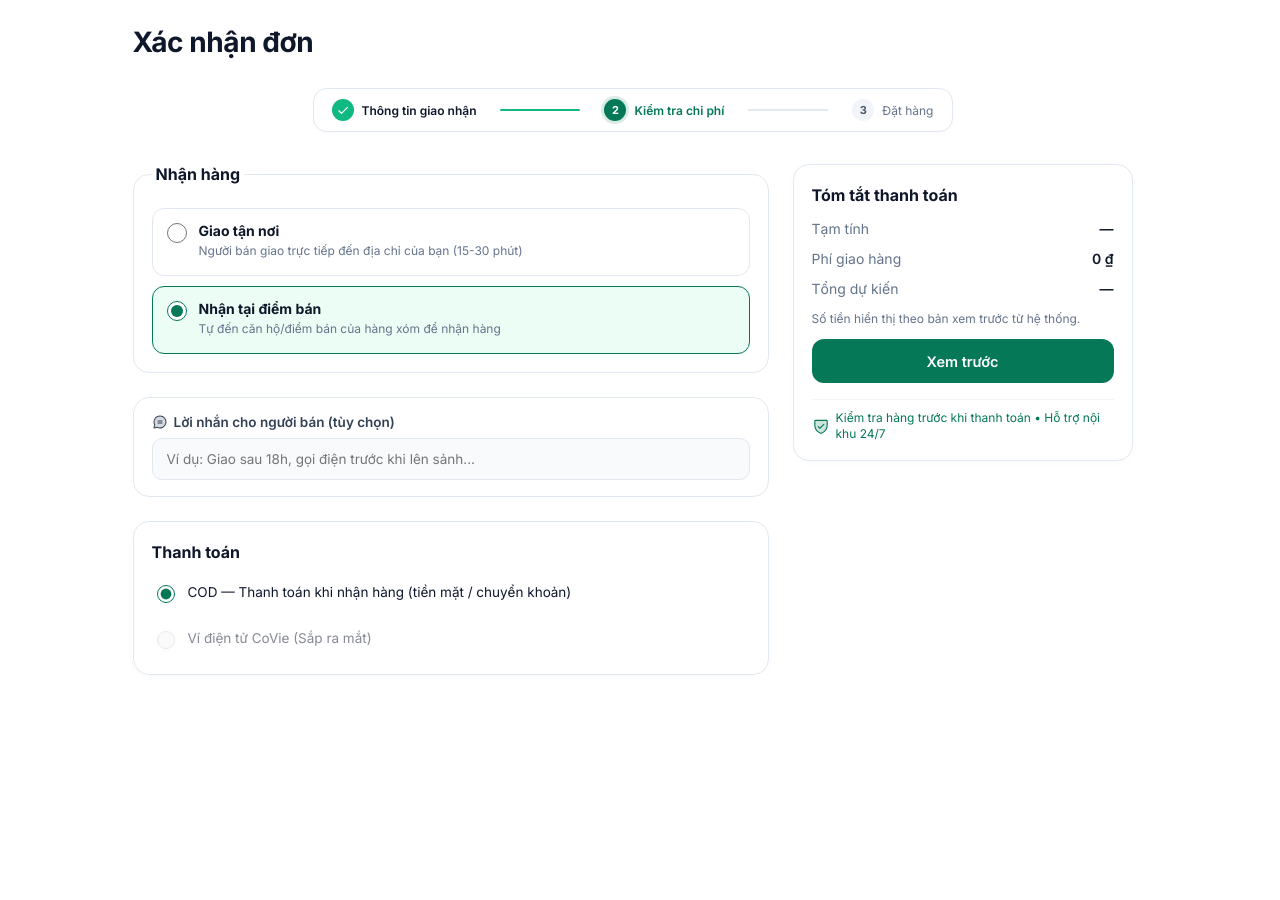
Test case: discards a changed checkout token and requires a fresh preview
Click the button "Xem trước" at point(962, 361), box [812,339,1114,383]
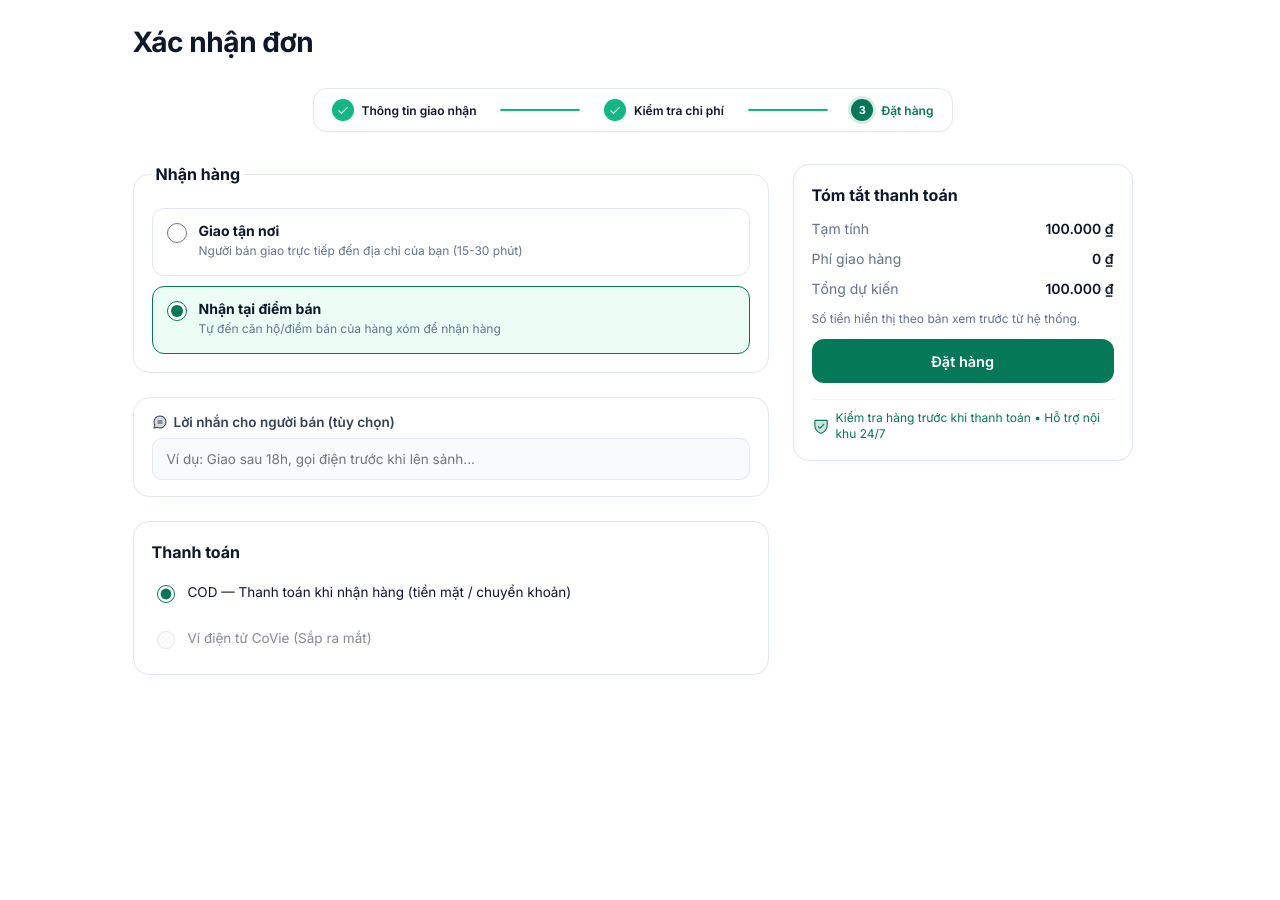
Click the button "Đặt hàng" at point(962, 361), box [812,339,1114,383]
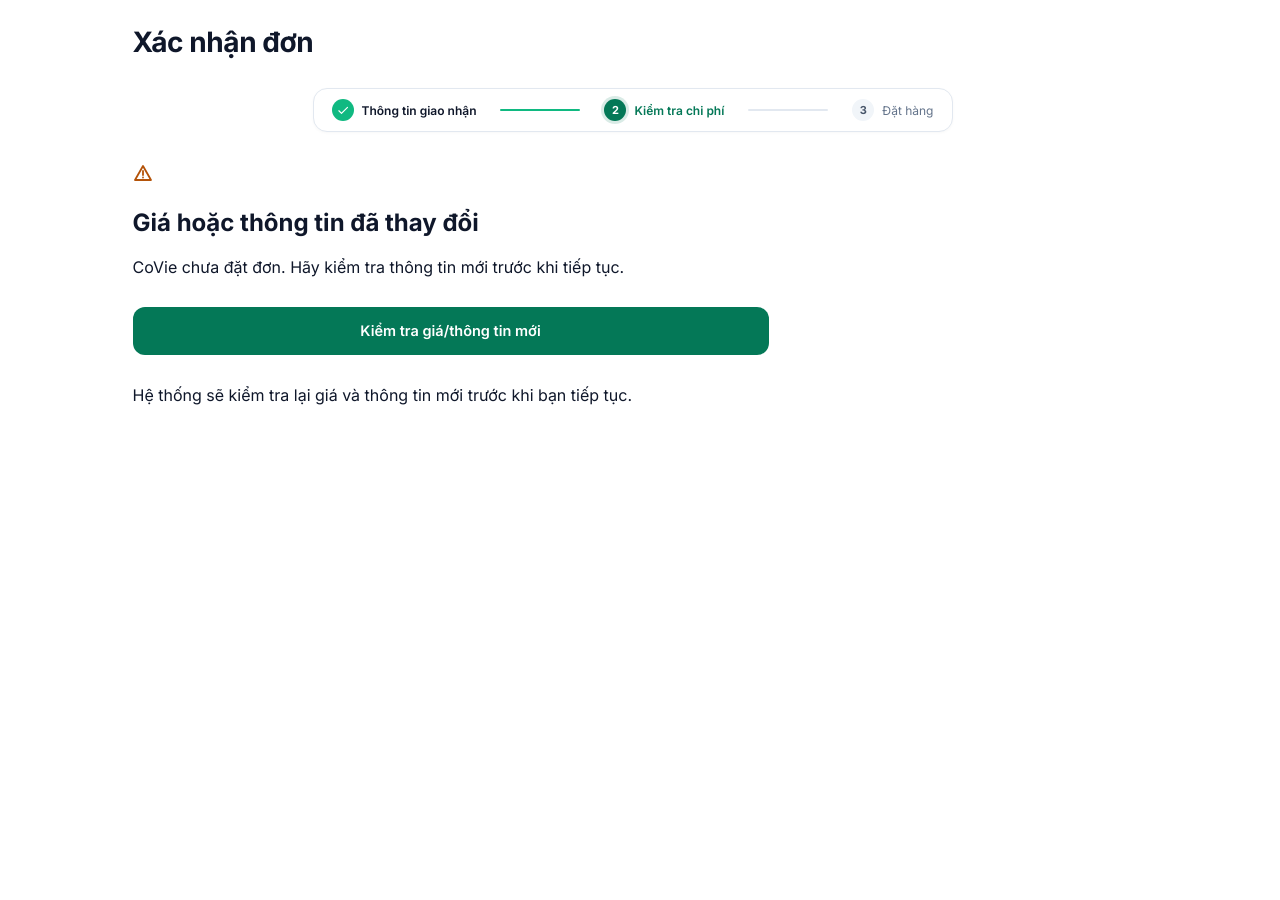
Expected: the dialog is shown, [132,164,768,421]
Expected: the heading "Giá hoặc thông tin đã thay đổi" is shown, [132,208,479,237]
Expected: the button "Kiểm tra giá/thông tin mới" is shown, [132,307,768,355]
